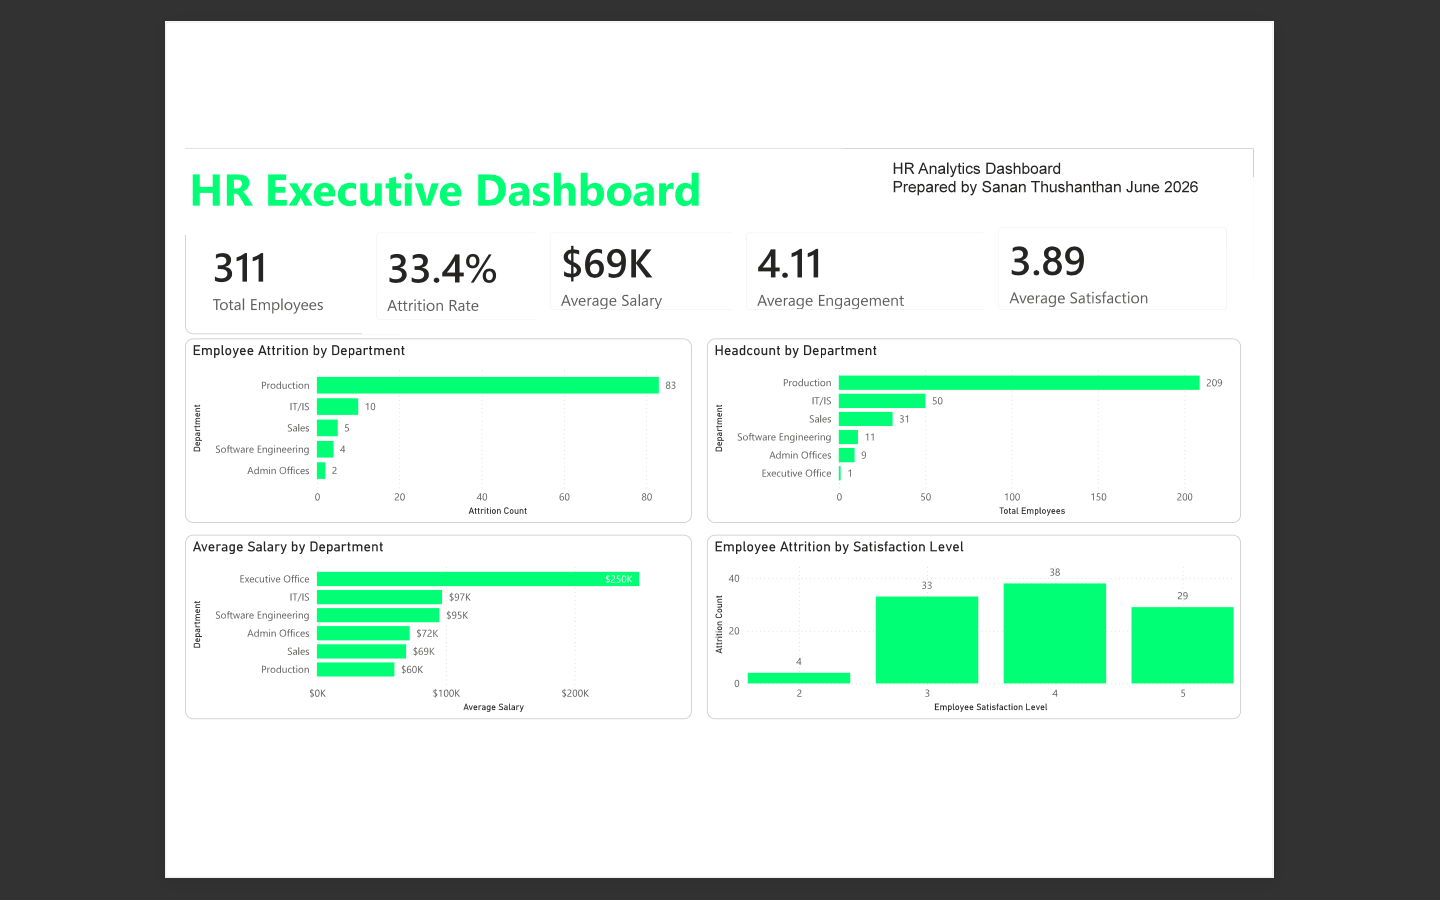

The dashboard page shown, as its layout file describes it:
{"tool":"powerbi","page":{"name":"Executive Overview","canvas":[1280,720],"ordinal":0},"visuals":[{"type":"cardVisual","fields":{"Data":["HRDataset_v14.Total Employees"]},"box":[0,83.3,268.3,138.3],"z":0},{"type":"textbox","box":[0,0,788.3,103.3],"z":1000},{"type":"clusteredBarChart","title":"Employee Attrition by Department","fields":{"Category":["HRDataset_v14.Department"],"Y":["HRDataset_v14.Attrition Count"]},"box":[0,226.7,606.7,221.7],"z":2000},{"type":"clusteredBarChart","title":"Headcount by Department","fields":{"Category":["HRDataset_v14.Department"],"Y":["HRDataset_v14.Total Employees"]},"box":[625,226.7,640,221.7],"z":3000},{"type":"clusteredBarChart","fields":{"Category":["HRDataset_v14.Department"],"Y":["HRDataset_v14.Average Salary"]},"box":[0,461.7,606.7,221.7],"z":4000},{"type":"cardVisual","fields":{"Data":["HRDataset_v14.Attrition Rate"]},"box":[211.7,83.3,268.3,138.3],"z":5000},{"type":"cardVisual","fields":{"Data":["HRDataset_v14.Average Salary"]},"box":[420,83.3,268.3,126.7],"z":6000},{"type":"cardVisual","fields":{"Data":["HRDataset_v14.Average Engagement"]},"box":[655,83.3,320,126.7],"z":7000},{"type":"cardVisual","fields":{"Data":["HRDataset_v14.Average Satisfaction"]},"box":[956.7,76.7,308.3,133.3],"z":8000},{"type":"clusteredColumnChart","title":"Employee Attrition by Satisfaction Level","fields":{"Category":["HRDataset_v14.EmpSatisfaction"],"Y":["HRDataset_v14.Attrition Count"]},"box":[625,461.7,640,221.7],"z":9000},{"type":"textbox","box":[841.7,8.3,433.3,68.3],"z":9001}]}

Visuals, with their boxes on the page's 1280x720 design canvas (x1, y1, x2, y2). These are canvas units, not pixel positions in the 1440x900 screenshot, which may show the page scaled, cropped or inside an application window:
cardVisual - HRDataset_v14.Total Employees: (left=0, top=83, right=268, bottom=222)
textbox: (left=0, top=0, right=788, bottom=103)
"Employee Attrition by Department" clusteredBarChart: (left=0, top=227, right=607, bottom=448)
"Headcount by Department" clusteredBarChart: (left=625, top=227, right=1265, bottom=448)
clusteredBarChart - HRDataset_v14.Department x HRDataset_v14.Average Salary: (left=0, top=462, right=607, bottom=683)
cardVisual - HRDataset_v14.Attrition Rate: (left=212, top=83, right=480, bottom=222)
cardVisual - HRDataset_v14.Average Salary: (left=420, top=83, right=688, bottom=210)
cardVisual - HRDataset_v14.Average Engagement: (left=655, top=83, right=975, bottom=210)
cardVisual - HRDataset_v14.Average Satisfaction: (left=957, top=77, right=1265, bottom=210)
"Employee Attrition by Satisfaction Level" clusteredColumnChart: (left=625, top=462, right=1265, bottom=683)
textbox: (left=842, top=8, right=1275, bottom=77)
